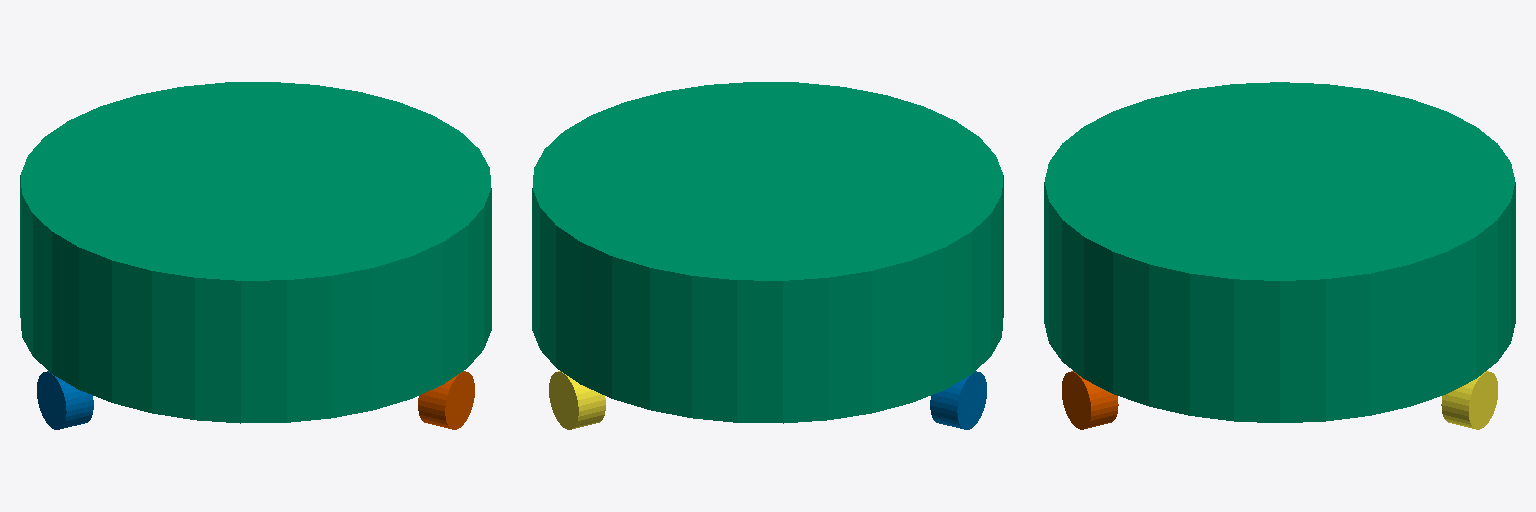
robot.urdf — my_robot:
<?xml version="1.0"?>
<robot name="my_robot">
  <link name="world"/>
  <link name="base_link"/>
  <joint name="robot_joint" type="floating">
    <parent link="world"/>
    <child link="base_link"/>
    <origin xyz="0 0 0" rpy="0 0 0"/>
    <axis xyz="0 0 1"/>
    <limit effort="30" velocity="1.0" lower="-2.0" upper="2.0" />
  </joint>

  <link name="body_link">
    <visual>
      <origin rpy="0 0 0" xyz="0 0 0.05"/>
      <geometry>
        <cylinder radius="0.15" length="0.10" />
      </geometry>
    </visual>
  </link>
  <joint name="body_joint" type="fixed">
    <parent link="base_link"/>
    <child link="body_link"/>
    <origin xyz="0 0 0.038" rpy="0 0 0"/>
    <axis xyz="0 0 1"/>
    <limit effort="30" velocity="1.0" lower="-2.0" upper="2.0" />
  </joint>

  <link name="wheel0_link">
    <visual>
      <origin rpy="0 0 0" xyz="0 0 0"/>
      <geometry>
        <cylinder radius="0.019" length="0.02" />
      </geometry>
    </visual>
  </link>
  <joint name="wheel0_joint" type="continuous">
    <parent link="base_link"/>
    <child link="wheel0_link"/>
    <origin xyz="0.07 0.121 0.019" rpy="0 1.5707 1.047"/>
    <axis xyz="0 0 1"/>
    <limit effort="30" velocity="1.0" lower="-2.0" upper="2.0" />
  </joint>

  <link name="wheel1_link">
    <visual>
      <origin rpy="0 0 0" xyz="0 0 0"/>
      <geometry>
        <cylinder radius="0.019" length="0.02" />
      </geometry>
    </visual>
  </link>
  <joint name="wheel1_joint" type="continuous">
    <parent link="base_link"/>
    <child link="wheel1_link"/>
    <origin xyz="-0.14 0 0.019" rpy="0 1.5707 3.1415"/>
    <axis xyz="0 0 1"/>
    <limit effort="30" velocity="1.0" lower="-2.0" upper="2.0" />
  </joint>

  <link name="wheel2_link">
    <visual>
      <origin rpy="0 0 0" xyz="0 0 0"/>
      <geometry>
        <cylinder radius="0.019" length="0.02" />
      </geometry>
    </visual>
  </link>
  <joint name="wheel2_joint" type="continuous">
    <parent link="base_link"/>
    <child link="wheel2_link"/>
    <origin xyz="0.07 -0.121 0.019" rpy="0 1.5707 -1.047"/>
    <axis xyz="0 0 1"/>
    <limit effort="30" velocity="1.0" lower="-2.0" upper="2.0" />
  </joint>

</robot>

--- What the picture shows (computed from the rendered views, not written in the file) ---
3 views of the same robot in one strip: view 1: azimuth 30°, elevation 25°; view 2: azimuth 150°, elevation 25°; view 3: azimuth 270°, elevation 25° (orthographic).
Robot: my_robot — 6 links, 5 joints (3 continuous, 1 fixed, 1 floating); root link world; default pose: all joints at 0.
Links seen in each view (by area): view 1: body_link, wheel1_link, wheel2_link; view 2: body_link, wheel1_link, wheel0_link; view 3: body_link, wheel0_link, wheel2_link.
Link boxes in pixels (x1,y1,x2,y2): body_link: (20, 82, 491, 423); wheel1_link: (37, 371, 93, 429); wheel2_link: (418, 371, 474, 429); body_link: (532, 82, 1003, 423); wheel1_link: (930, 371, 986, 429); wheel0_link: (549, 371, 605, 429); body_link: (1044, 82, 1515, 422); wheel0_link: (1441, 371, 1497, 429); wheel2_link: (1062, 371, 1118, 429).
Bounding box of the posed robot: 0.3 × 0.3 × 0.138 m (x, y, z).
Geometry: primitives only (box / cylinder / sphere), no mesh files.